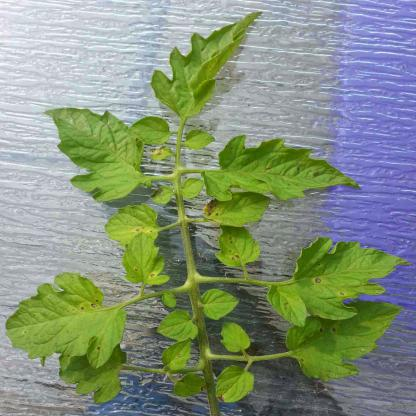tomato septoria leaf spot: (266, 233, 402, 331), (0, 275, 124, 376), (105, 230, 172, 293), (104, 203, 166, 251), (210, 220, 262, 276), (197, 189, 272, 225)
